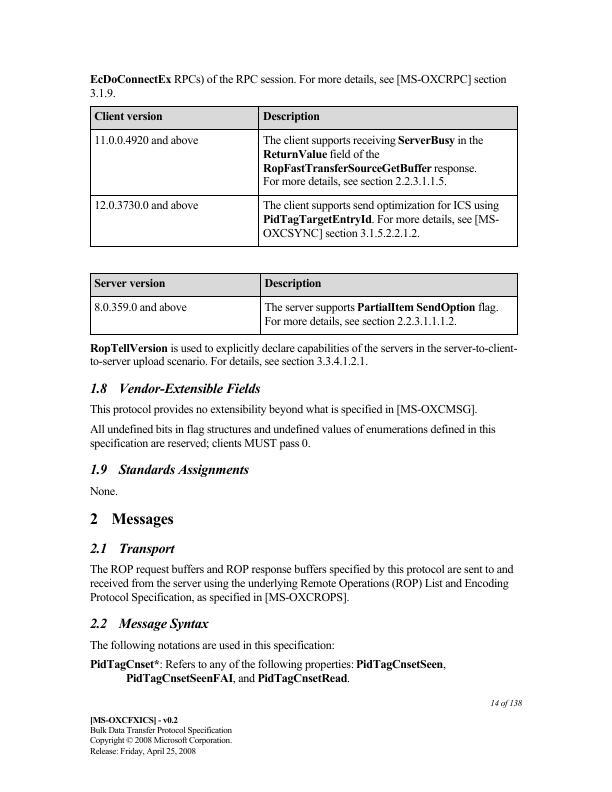table: (86, 103, 523, 250), (87, 270, 523, 338)
text: (87, 563, 517, 604), (87, 656, 449, 691), (87, 340, 520, 369), (87, 71, 509, 98), (88, 423, 497, 448), (87, 713, 234, 757), (87, 403, 480, 418), (90, 638, 335, 653), (89, 460, 249, 480), (91, 380, 264, 398), (87, 615, 212, 633), (87, 510, 179, 531), (89, 541, 176, 558), (487, 697, 525, 711), (87, 483, 121, 498)
